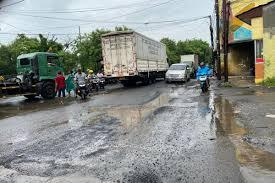Pothole: (200, 82, 275, 183), (75, 91, 201, 121), (5, 150, 71, 182), (80, 133, 117, 165), (125, 164, 163, 183), (50, 115, 71, 135)
